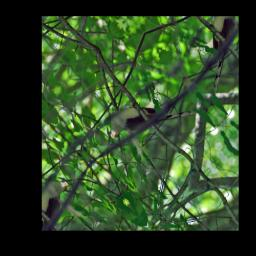Cuckoo: (100, 67, 201, 175)
